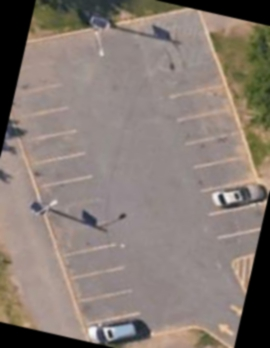parkingspot: (9, 34, 158, 346), (164, 81, 269, 266)
